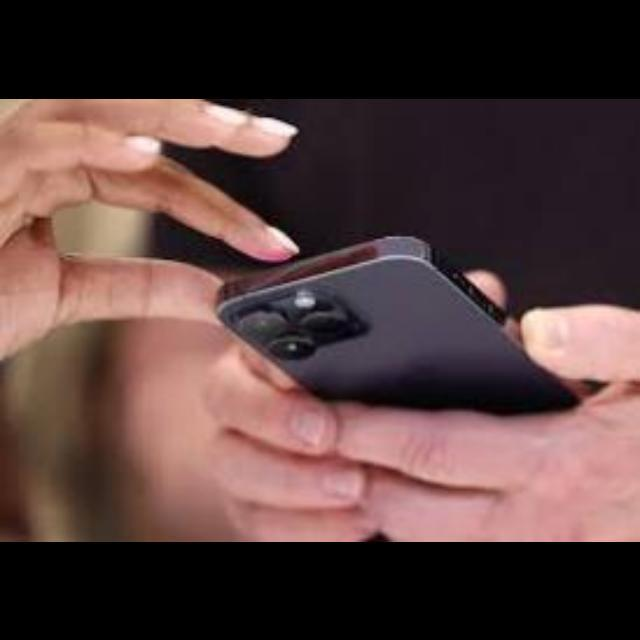phone: (181, 212, 614, 462)
